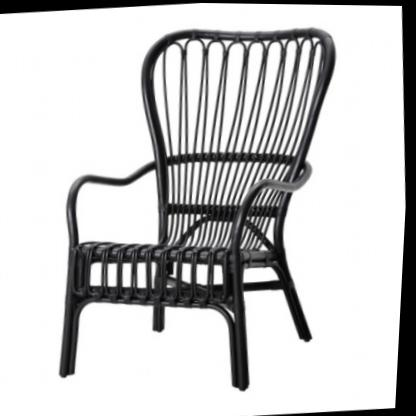Chair: (37, 15, 363, 403)
